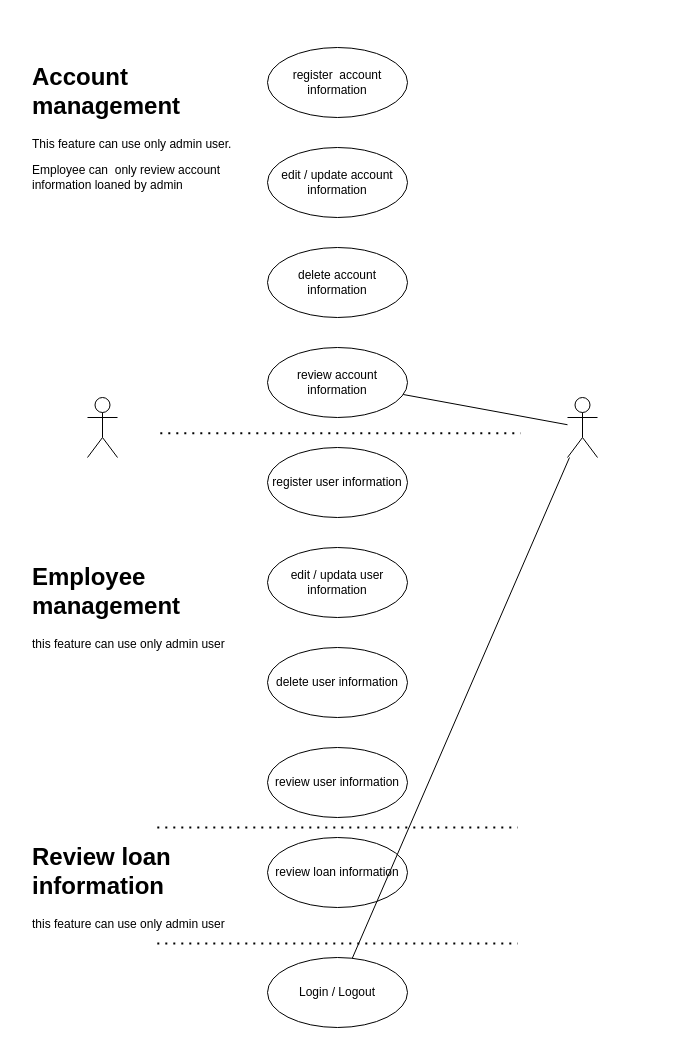
Image size: 674x1064. Some labels were removed from this diagram. Each missing label, with the centre of its shape:
"admin" goes at [102,427].
"employee" goes at [582,427].
